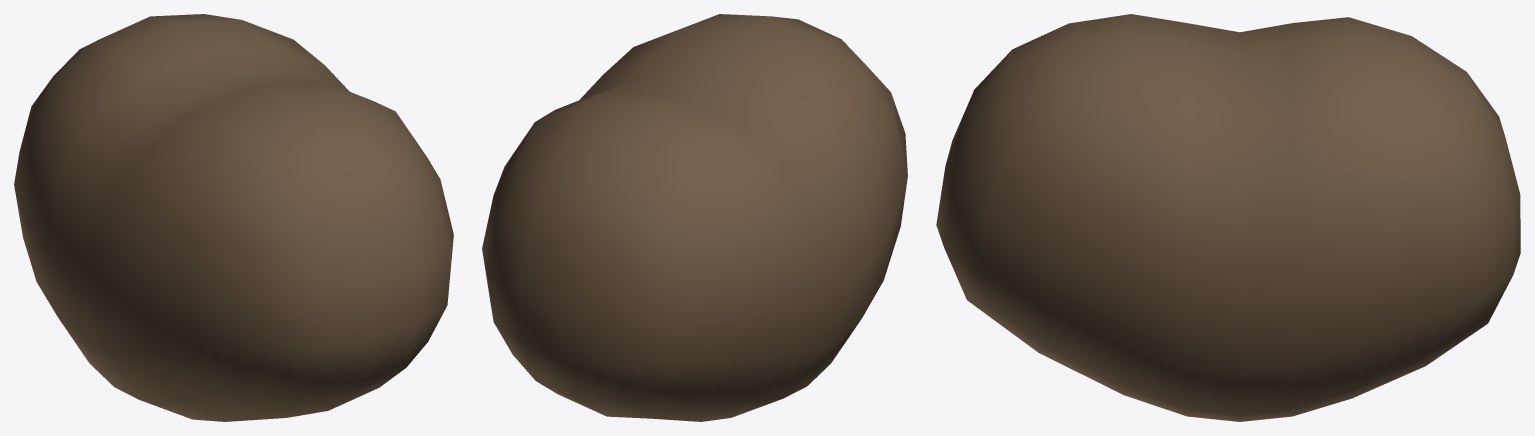
The model's file is Potato.fbx.
3 renders of one model, left to right at view 1: azimuth 30°, elevation 25°; view 2: azimuth 150°, elevation 25°; view 3: azimuth 270°, elevation 25°, orthographic. The views are drawn at different scales.
Parts seen in each view (by area): view 1: pCube32; view 2: pCube32; view 3: pCube32.
Part boxes in pixels (box(x1,y1,x2,y2)): pCube32: box(14, 14, 453, 421); pCube32: box(482, 14, 907, 421); pCube32: box(936, 14, 1520, 421).
Bounding box in the file's own units: 0.9375 × 0.9576 × 1.39.
